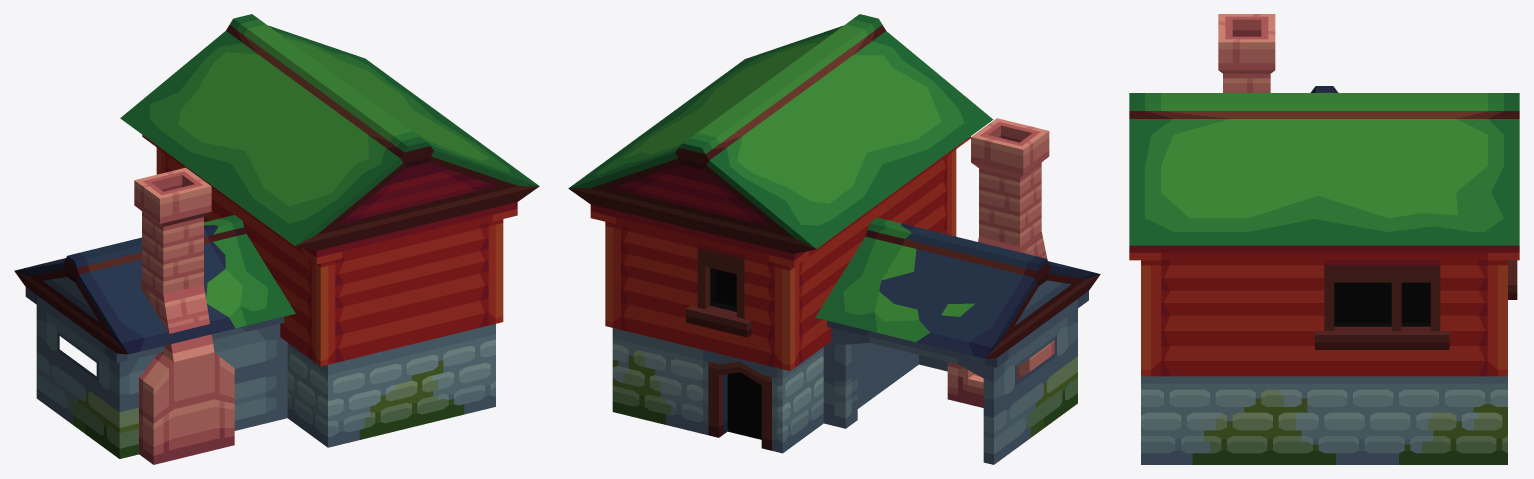
The model's file is buildingWorkshop 1.fbx.
3 renders of one model, left to right at view 1: azimuth 30°, elevation 25°; view 2: azimuth 150°, elevation 25°; view 3: azimuth 270°, elevation 25°, orthographic. The views are drawn at different scales.
Parts seen in each view (by area): view 1: houseWorkshopTop1, houseWorkshopTop2, forge, houseWorkshopBottom1; view 2: houseWorkshopTop1, houseWorkshopTop2, houseWorkshopBottom1, forge; view 3: houseWorkshopTop1, houseWorkshopBottom1, forge.
Boxes of the visible parts, x1,y1,x2,y2 form: houseWorkshopTop1: (120,14,539,366); houseWorkshopTop2: (14,215,295,458); forge: (134,167,234,464); houseWorkshopBottom1: (287,324,495,447); houseWorkshopTop1: (568,14,993,370); houseWorkshopTop2: (815,217,1100,464); houseWorkshopBottom1: (612,328,823,453); forge: (947,118,1054,407); houseWorkshopTop1: (1129,93,1519,376); houseWorkshopBottom1: (1141,376,1507,464); forge: (1218,14,1275,92).
Size of the model in its own units: 969 by 697 by 768.
4 materials, 4 textured.
